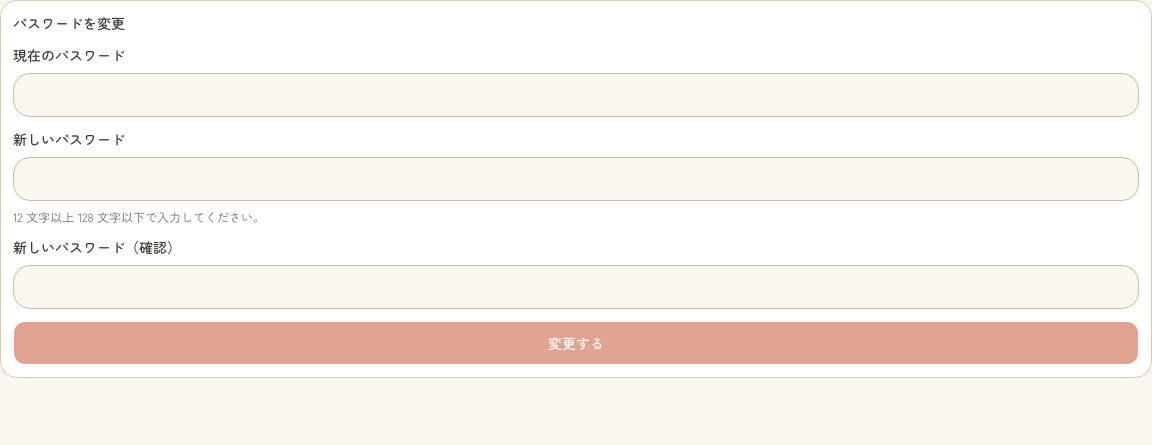
Test: ChangePasswordForm › F-01: changePassword のエラー {"status":400,"statusText":"x","code":"PASSWORD_TOO_SHORT"} → パスワードは 12〜128 文字にしてください。
The image size is (1152, 445).
In the password field labelled "現在のパスワード": [576, 95] box [13,73,1139,117], type "old-password-1234"
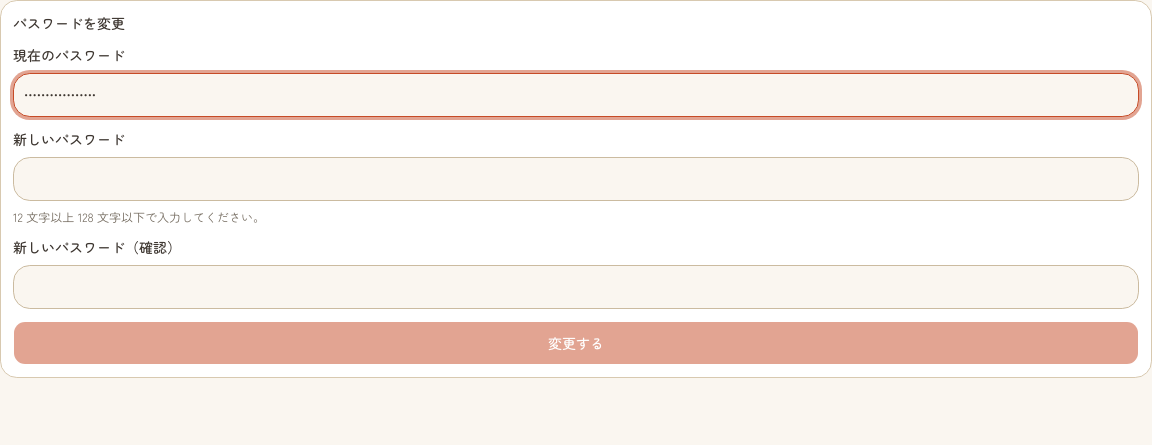
In the password field labelled "新しいパスワード": [576, 179] box [13,157,1139,201], type "new-password-1234"
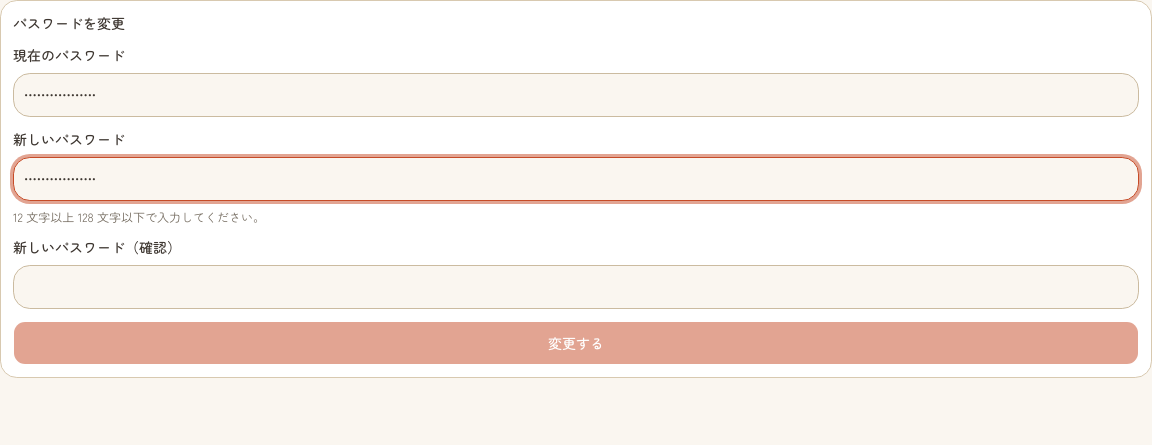
In the password field labelled "新しいパスワード（確認）": [576, 287] box [13,265,1139,309], type "new-password-1234"
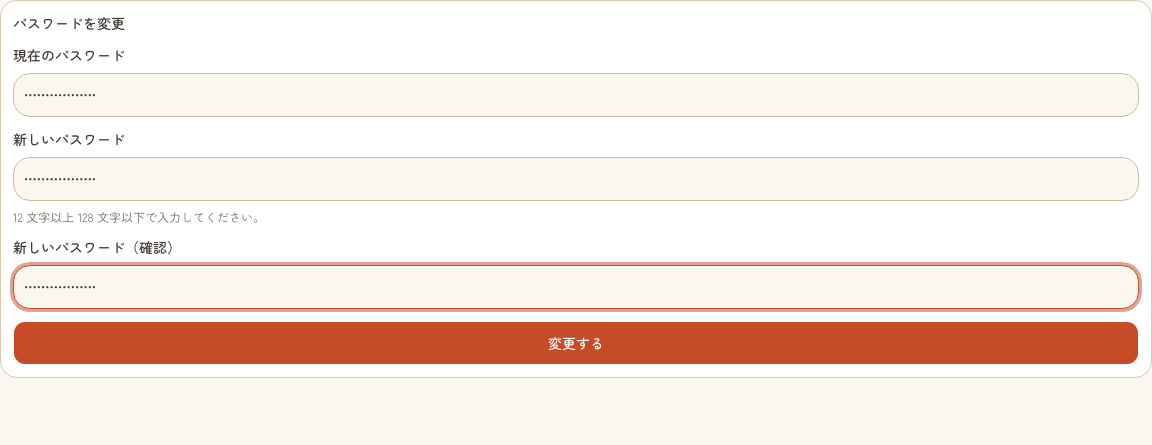
Click the button "変更する": [576, 343] box [13,321,1139,365]
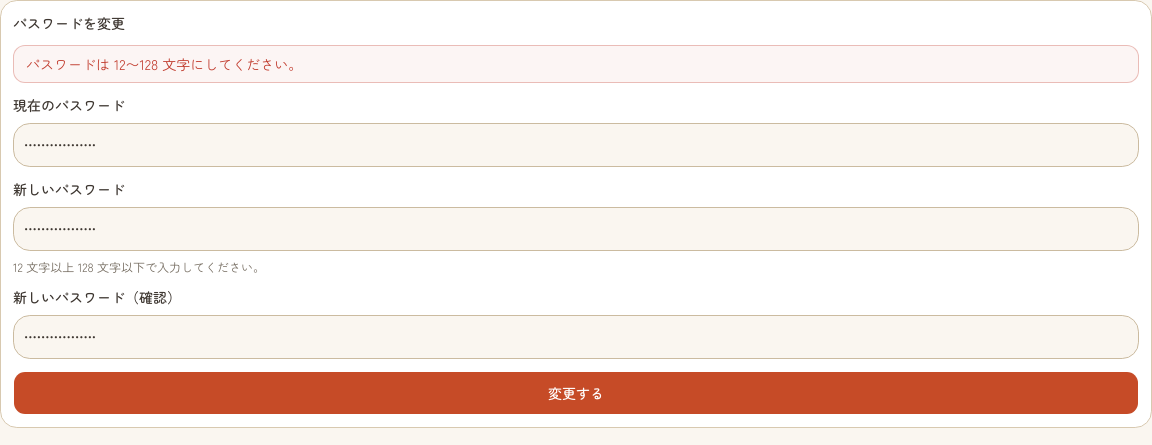
Now the text "パスワードは 12〜128 文字にしてください。" is shown, box [13,45,1139,83]
